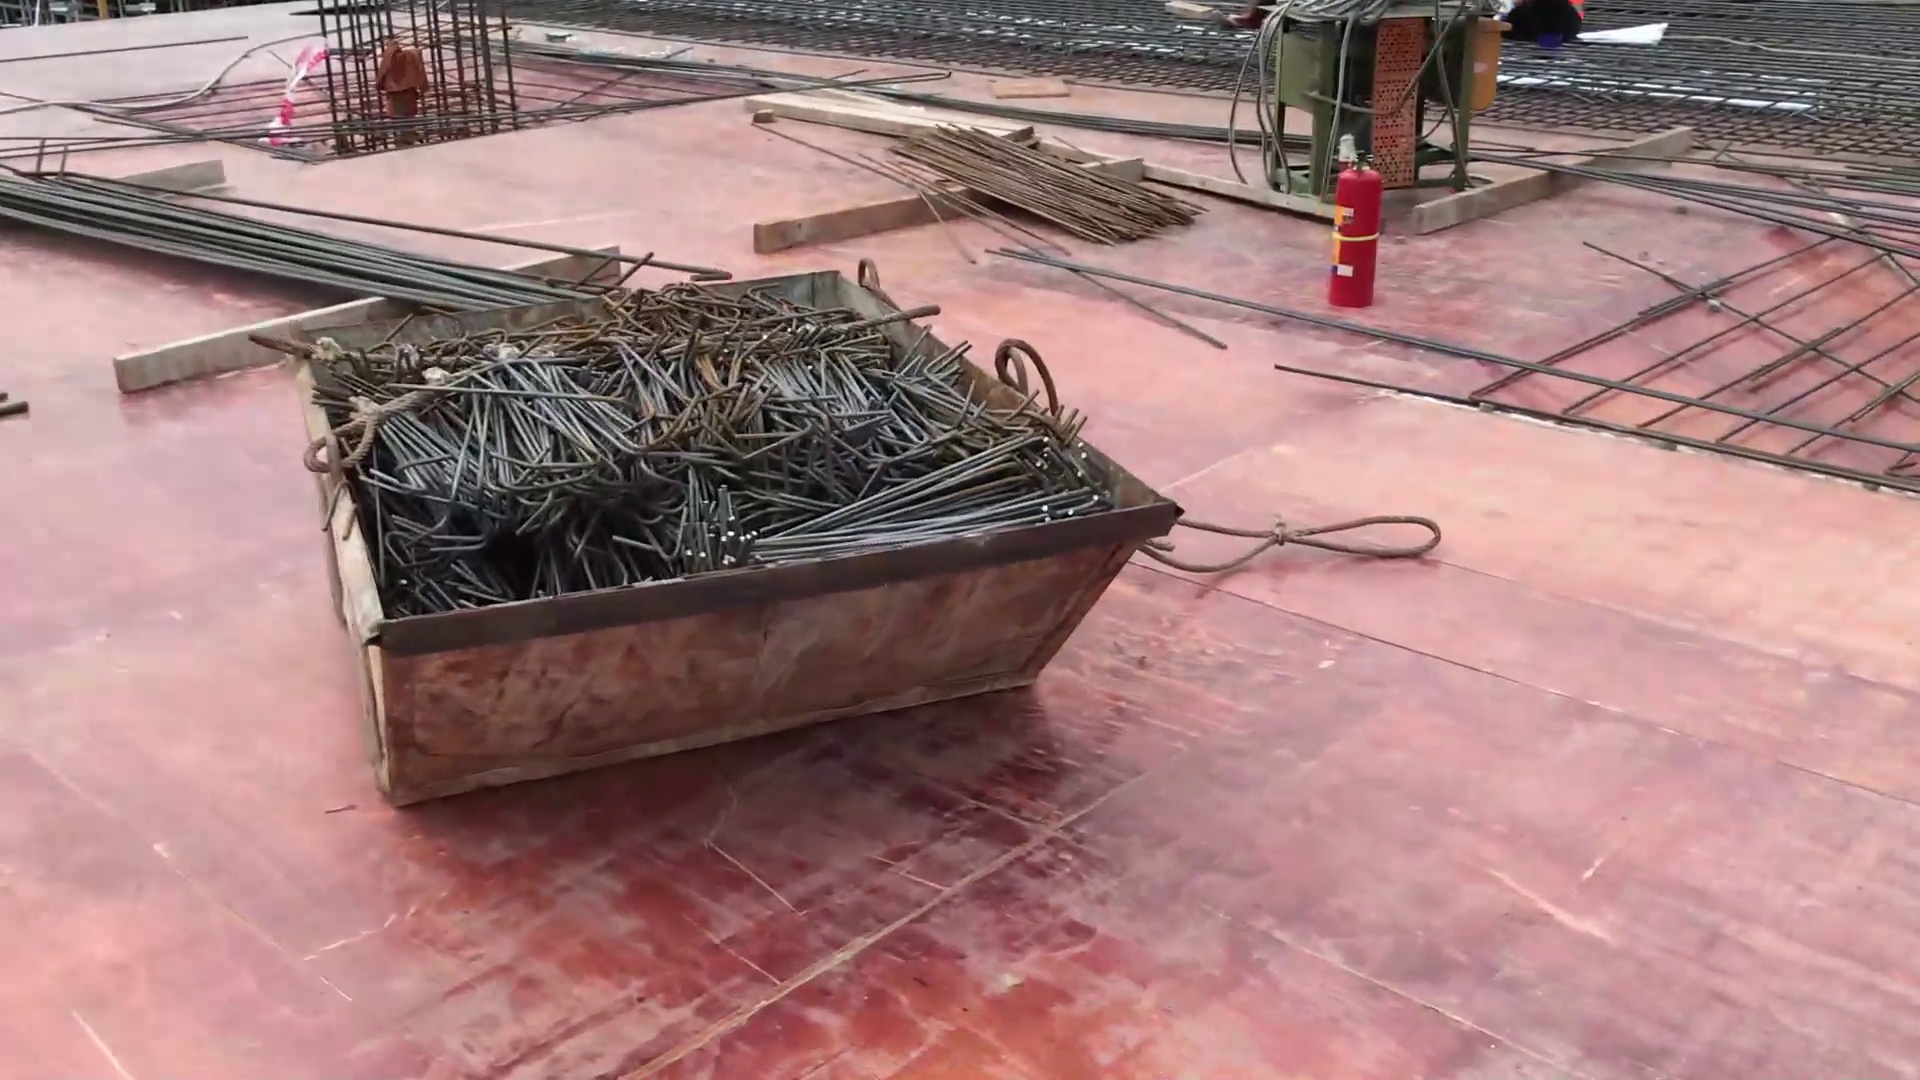hopper: (280, 272, 1191, 815)
rebar: (4, 160, 632, 318)
